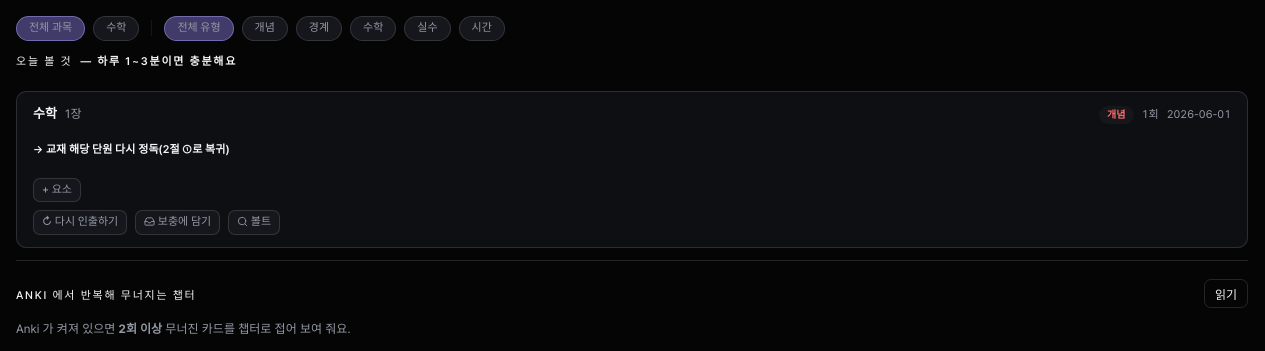
오답 노트 화면 › 필터가 만든 빈 상태는 **다른 문장**이다(두 사건의 처방이 다르다)
The width and height of the screenshot is (1265, 351).
다른 유형으로 좁히면 결과 0 — 그런데 기록 자체는 있으므로 '기록 없음'이 뜨면 안 된다.
Click the button "경계".
click(319, 28)  # box [296,16,342,41]
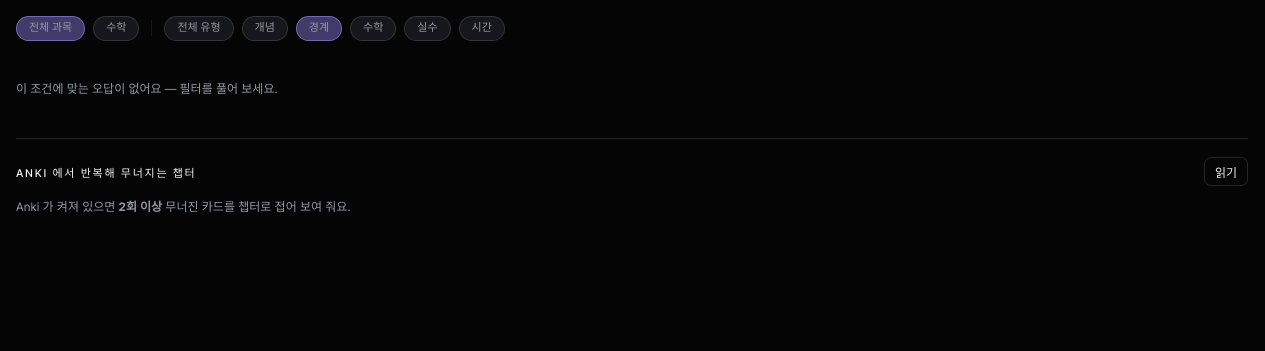
Result: the message shows "필터를 풀어" at [16,82,278,96]
